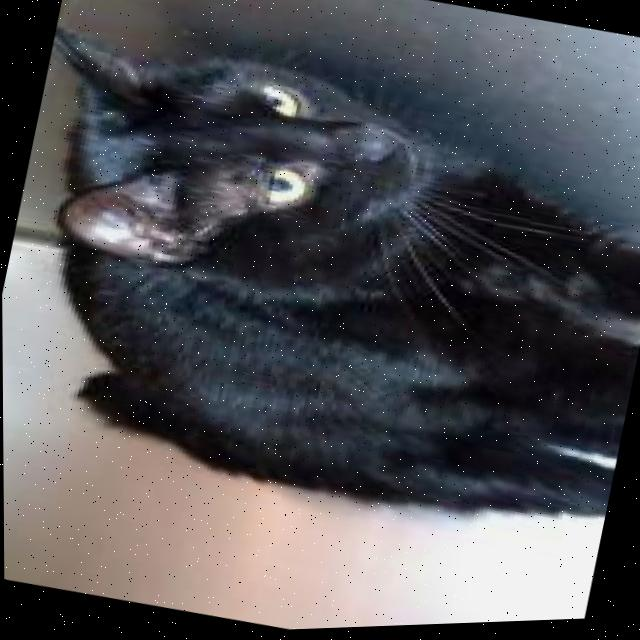American Bobtail: (0, 5, 640, 572)
